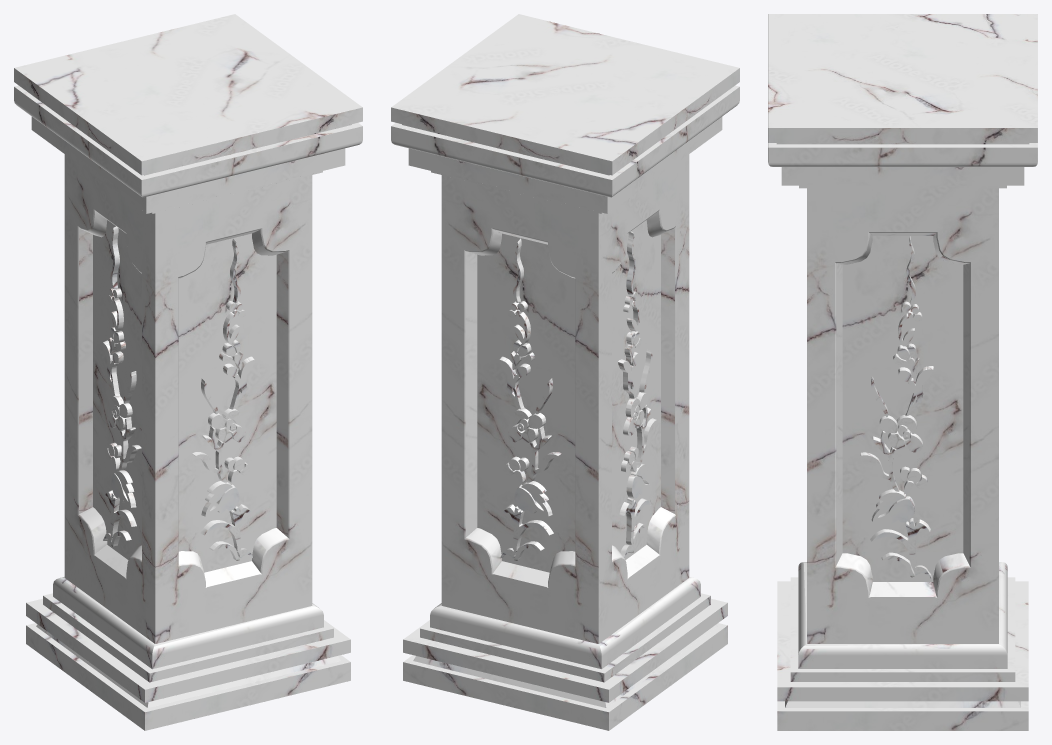
Rendered from Pilar.fbx.
3 renders of one model, left to right at view 1: azimuth 30°, elevation 25°; view 2: azimuth 150°, elevation 25°; view 3: azimuth 270°, elevation 25°, orthographic. The views are drawn at different scales.
Visible parts, largest first — view 1: column; view 2: column; view 3: column.
Boxes of the visible parts, bbox=[...] form: column: bbox=[14, 14, 362, 730]; column: bbox=[391, 14, 739, 730]; column: bbox=[768, 14, 1037, 730].
Bounding box in the file's own units: 3.22 × 8 × 3.22.
1 material, 1 textured.
